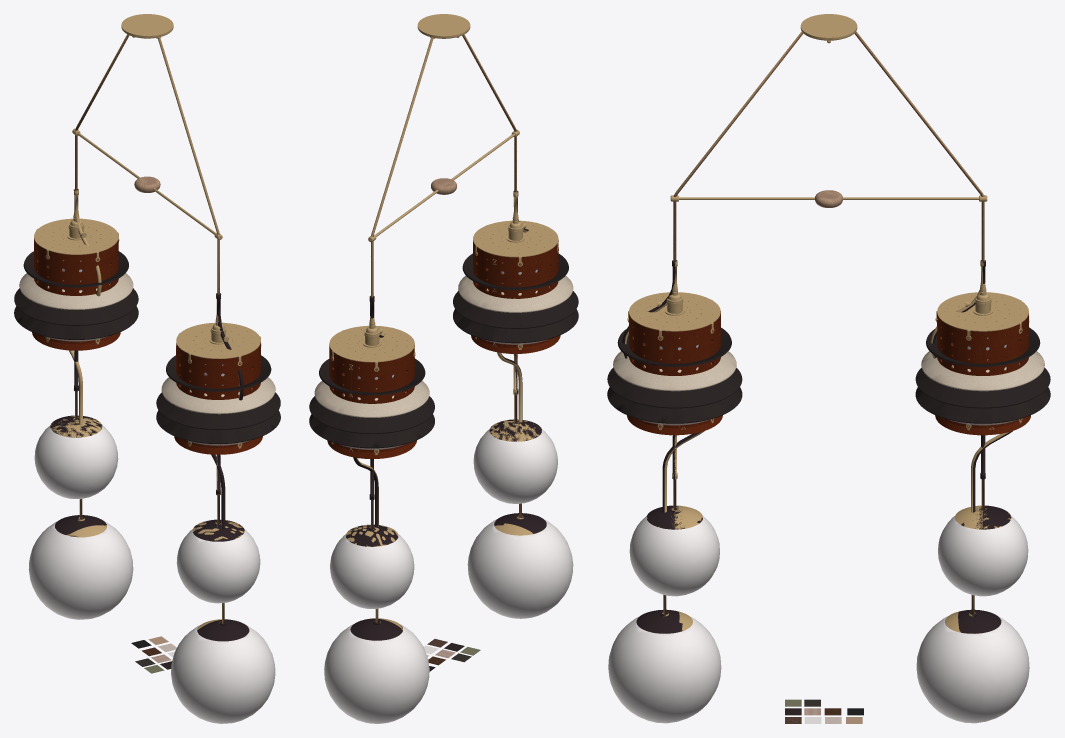
The model's file is Elsa_double.gltf.
3 renders of one model, left to right at view 1: azimuth 30°, elevation 25°; view 2: azimuth 150°, elevation 25°; view 3: azimuth 270°, elevation 25°, orthographic. The views are drawn at different scales.
Parts seen in each view (by area): view 1: 2 Law L Large Globes, 2 Law Small Globes, 2 Sarah Cyl Shade, 2 Sarah Cyl Sockets and Shade Holders, 2 Shade V[EDMUND_SHADE], Steel shade 12C, Steel 12F, 2 Orb V[LAW_L_ORB], 2 Orb V[LAW_S_ORB], 2 Metal V[MTL], Steel Shade 10X, 2 Sarah Cone Shade (+6 smaller); view 2: 2 Law L Large Globes, 2 Law Small Globes, 2 Sarah Cyl Shade, 2 Sarah Cyl Sockets and Shade Holders, 2 Shade V[EDMUND_SHADE], Steel shade 12C, Steel 12F, 2 Orb V[LAW_L_ORB], 2 Metal V[MTL], 2 Orb V[LAW_S_ORB], Steel Shade 10X, 2 Sarah Cone Shade (+5 smaller); view 3: 2 Law L Large Globes, 2 Law Small Globes, 2 Sarah Cyl Shade, 2 Sarah Cyl Sockets and Shade Holders, 2 Shade V[EDMUND_SHADE], Steel shade 12C, Steel 12F, 2 Orb V[LAW_L_ORB], 2 Metal V[MTL], Steel Shade 10X, 2 Orb V[LAW_S_ORB], 2 Sarah Cone Shade (+6 smaller).
Part boxes in pixels (x1,y1,x2,y2): 2 Law L Large Globes: (28, 520, 275, 723); 2 Law Small Globes: (34, 425, 260, 603); 2 Sarah Cyl Shade: (34, 238, 260, 449); 2 Sarah Cyl Sockets and Shade Holders: (34, 210, 261, 448); 2 Shade V[EDMUND_SHADE]: (19, 273, 275, 414); Steel shade 12C: (14, 306, 280, 444); Steel 12F: (14, 288, 280, 429); 2 Orb V[LAW_L_ORB]: (55, 189, 249, 641); 2 Orb V[LAW_S_ORB]: (50, 350, 244, 541); 2 Metal V[MTL]: (72, 14, 222, 239); Steel Shade 10X: (23, 251, 271, 391); 2 Sarah Cone Shade: (32, 332, 262, 454); 2 Law L Large Globes: (324, 519, 573, 723); 2 Law Small Globes: (330, 429, 557, 608); 2 Sarah Cyl Shade: (329, 240, 558, 452); 2 Sarah Cyl Sockets and Shade Holders: (329, 212, 558, 455); 2 Shade V[EDMUND_SHADE]: (314, 275, 573, 417); Steel shade 12C: (309, 309, 578, 448); Steel 12F: (309, 291, 578, 433); 2 Orb V[LAW_L_ORB]: (350, 190, 546, 640); 2 Metal V[MTL]: (368, 14, 519, 242); 2 Orb V[LAW_S_ORB]: (346, 354, 541, 546); Steel Shade 10X: (319, 253, 568, 395); 2 Sarah Cone Shade: (327, 335, 560, 458); 2 Law L Large Globes: (608, 616, 1029, 723); 2 Law Small Globes: (629, 516, 1028, 596); 2 Sarah Cyl Shade: (629, 311, 1028, 433); 2 Sarah Cyl Sockets and Shade Holders: (628, 283, 1028, 430); 2 Shade V[EDMUND_SHADE]: (613, 351, 1044, 391); Steel shade 12C: (607, 387, 1050, 423); Steel 12F: (607, 367, 1050, 408); 2 Orb V[LAW_L_ORB]: (622, 260, 1012, 633); 2 Metal V[MTL]: (670, 14, 987, 201); Steel Shade 10X: (617, 327, 1040, 366); 2 Orb V[LAW_S_ORB]: (646, 435, 1011, 529); 2 Sarah Cone Shade: (627, 415, 1030, 435).
Size of the model in its own units: 0.3036 by 1.71 by 0.9957.
31 materials, 17 textured.
